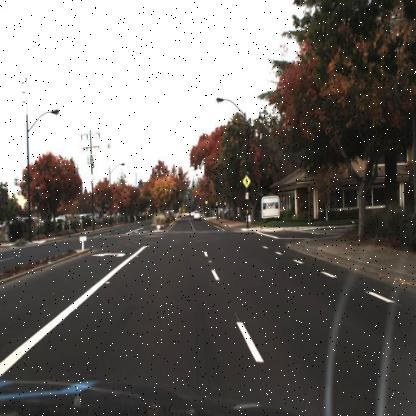car: (191, 208, 203, 223)
